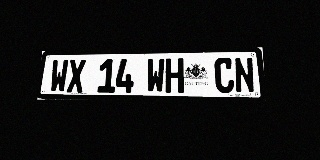1: (97, 59, 116, 93)
4: (115, 59, 134, 93)
C: (214, 58, 235, 93)
H: (165, 58, 184, 93)
N: (234, 57, 255, 93)
W: (146, 58, 165, 93), (49, 60, 69, 92)
X: (66, 59, 86, 93)
